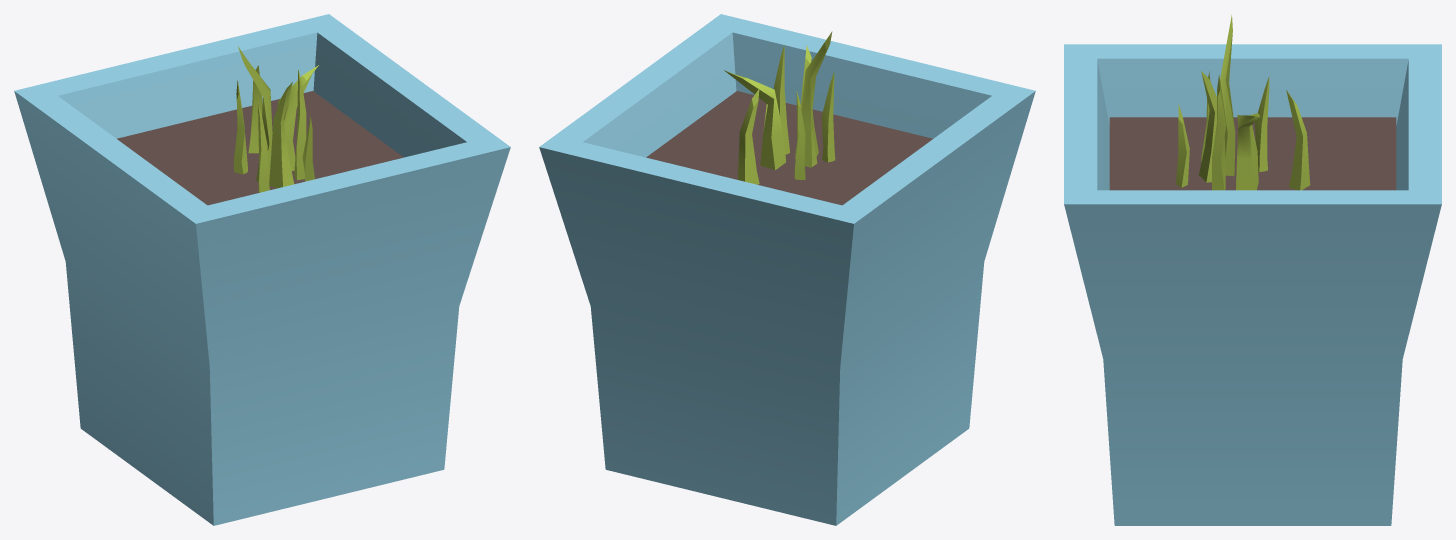
File: plant01_02.gltf
The picture shows the model from 3 angles, left to right: view 1: azimuth 30°, elevation 25°; view 2: azimuth 150°, elevation 25°; view 3: azimuth 270°, elevation 25°; orthographic projection. The views are drawn at different scales.
Parts seen in each view (by area): view 1: plant01_stage01:pot.001, plant01_stage01:dirt, pCube4, pCube3, pCube2, pCube5, pCube9, pCube8, pCube7; view 2: plant01_stage01:pot.001, plant01_stage01:dirt, pCube2, pCube3, pCube7, pCube8, pCube5, pCube9; view 3: plant01_stage01:pot.001, plant01_stage01:dirt, pCube2, pCube3, pCube7, pCube5, pCube4, pCube9, pCube6.
Boxes of the visible parts, x1,y1,x2,y2 form: plant01_stage01:pot.001: [14, 14, 510, 525]; plant01_stage01:dirt: [117, 91, 403, 205]; pCube4: [269, 82, 294, 188]; pCube3: [238, 46, 272, 182]; pCube2: [277, 65, 318, 170]; pCube5: [294, 69, 306, 180]; pCube9: [233, 80, 248, 174]; pCube8: [258, 103, 269, 192]; pCube7: [248, 65, 262, 153]; plant01_stage01:pot.001: [539, 14, 1035, 525]; plant01_stage01:dirt: [646, 91, 932, 205]; pCube2: [724, 70, 785, 169]; pCube3: [801, 31, 832, 167]; pCube7: [737, 89, 759, 184]; pCube8: [821, 72, 835, 162]; pCube5: [773, 45, 789, 154]; pCube9: [794, 91, 805, 180]; plant01_stage01:pot.001: [1064, 44, 1441, 525]; plant01_stage01:dirt: [1109, 117, 1396, 190]; pCube2: [1236, 113, 1260, 190]; pCube3: [1220, 15, 1235, 176]; pCube7: [1286, 90, 1310, 190]; pCube5: [1212, 74, 1226, 190]; pCube4: [1199, 71, 1216, 182]; pCube9: [1255, 76, 1269, 171]; pCube6: [1176, 104, 1189, 187].
Size of the model in its own units: 0.0137 by 0.0174 by 0.0137.
1 material, 1 textured.
